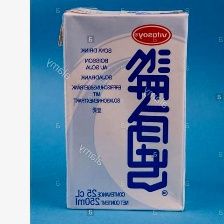carton: (55, 6, 192, 214)
